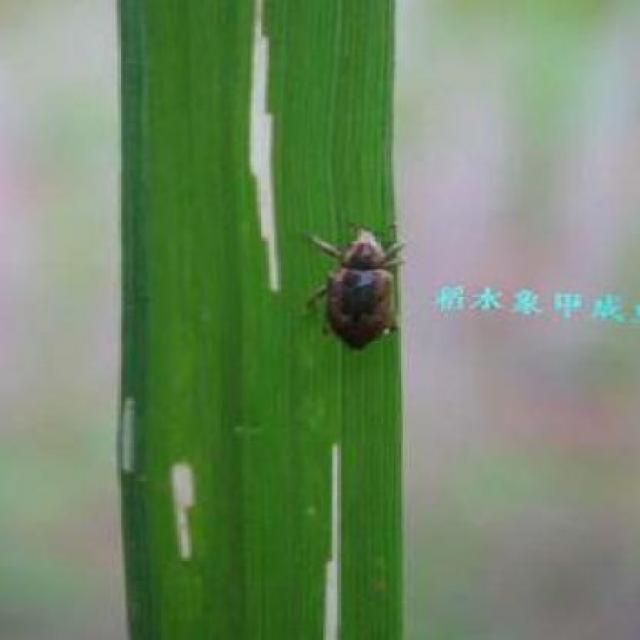rice-bug: (300, 220, 423, 354)
